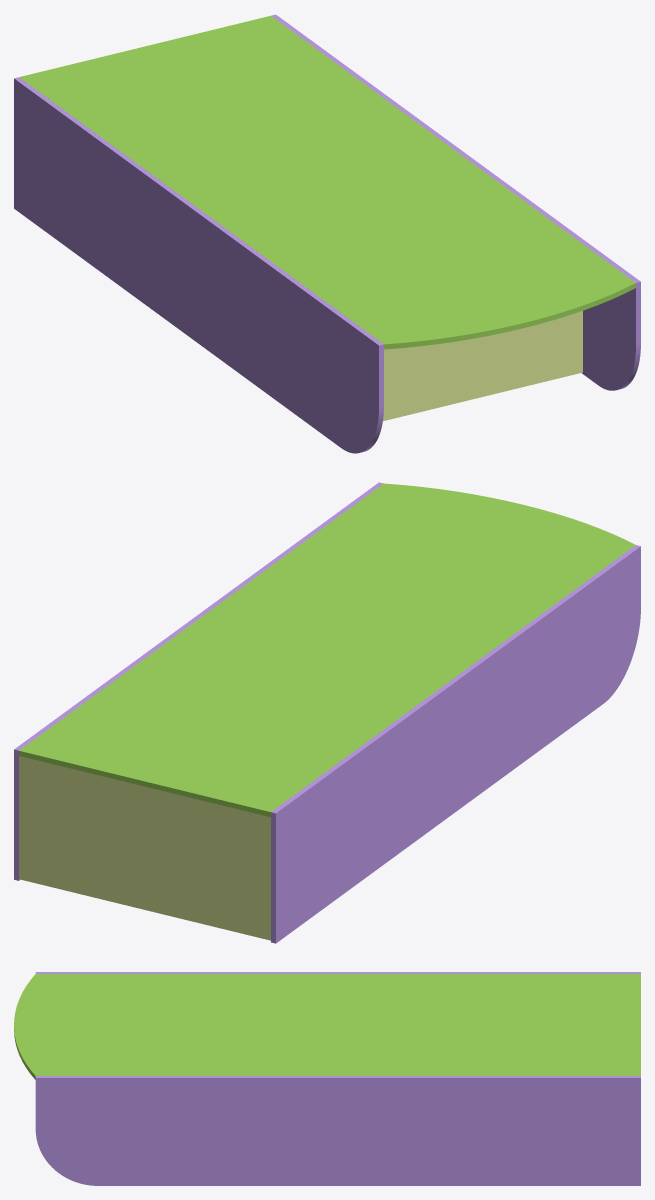
The model's file is mueble.gltf.
3 renders of one model, top to bottom at view 1: azimuth 30°, elevation 25°; view 2: azimuth 150°, elevation 25°; view 3: azimuth 270°, elevation 25°, orthographic. The views are drawn at different scales.
Parts seen in each view (by area): view 1: Rectangle007, Rectangle001, Rectangle489, Rectangle367; view 2: Rectangle007, Rectangle001, Rectangle002, Rectangle367; view 3: Rectangle367, Rectangle007, Rectangle001.
Part boxes in pixels (box(x1,y1,x2,y2)): Rectangle007: box(19, 15, 635, 349); Rectangle001: box(14, 77, 383, 453); Rectangle489: box(383, 311, 582, 421); Rectangle367: box(271, 14, 640, 390); Rectangle007: box(19, 483, 635, 817); Rectangle001: box(271, 545, 640, 943); Rectangle002: box(19, 756, 270, 940); Rectangle367: box(14, 482, 383, 880); Rectangle367: box(35, 1076, 640, 1185); Rectangle007: box(14, 974, 640, 1079); Rectangle001: box(35, 972, 640, 973).
Bounding box in the file's own units: 80 × 38 × 200.
